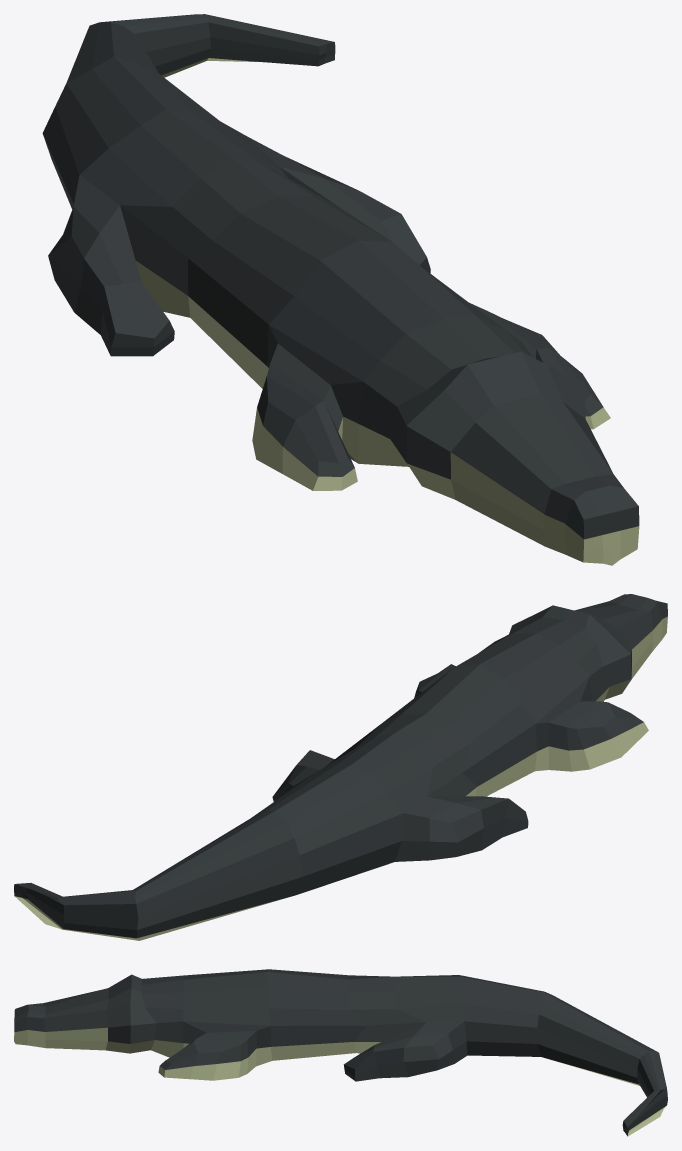
Rendered from Krokodil2.fbx.
3 renders of one model, top to bottom at view 1: azimuth 30°, elevation 25°; view 2: azimuth 150°, elevation 25°; view 3: azimuth 270°, elevation 25°, orthographic. The views are drawn at different scales.
Parts seen in each view (by area): view 1: Krokodil; view 2: Krokodil; view 3: Krokodil.
Part boxes in pixels (bbox=[...]): Krokodil: bbox=[42, 14, 639, 565]; Krokodil: bbox=[14, 594, 667, 940]; Krokodil: bbox=[14, 969, 667, 1136].
Size of the model in its own units: 2.3 by 0.7339 by 5.25.
